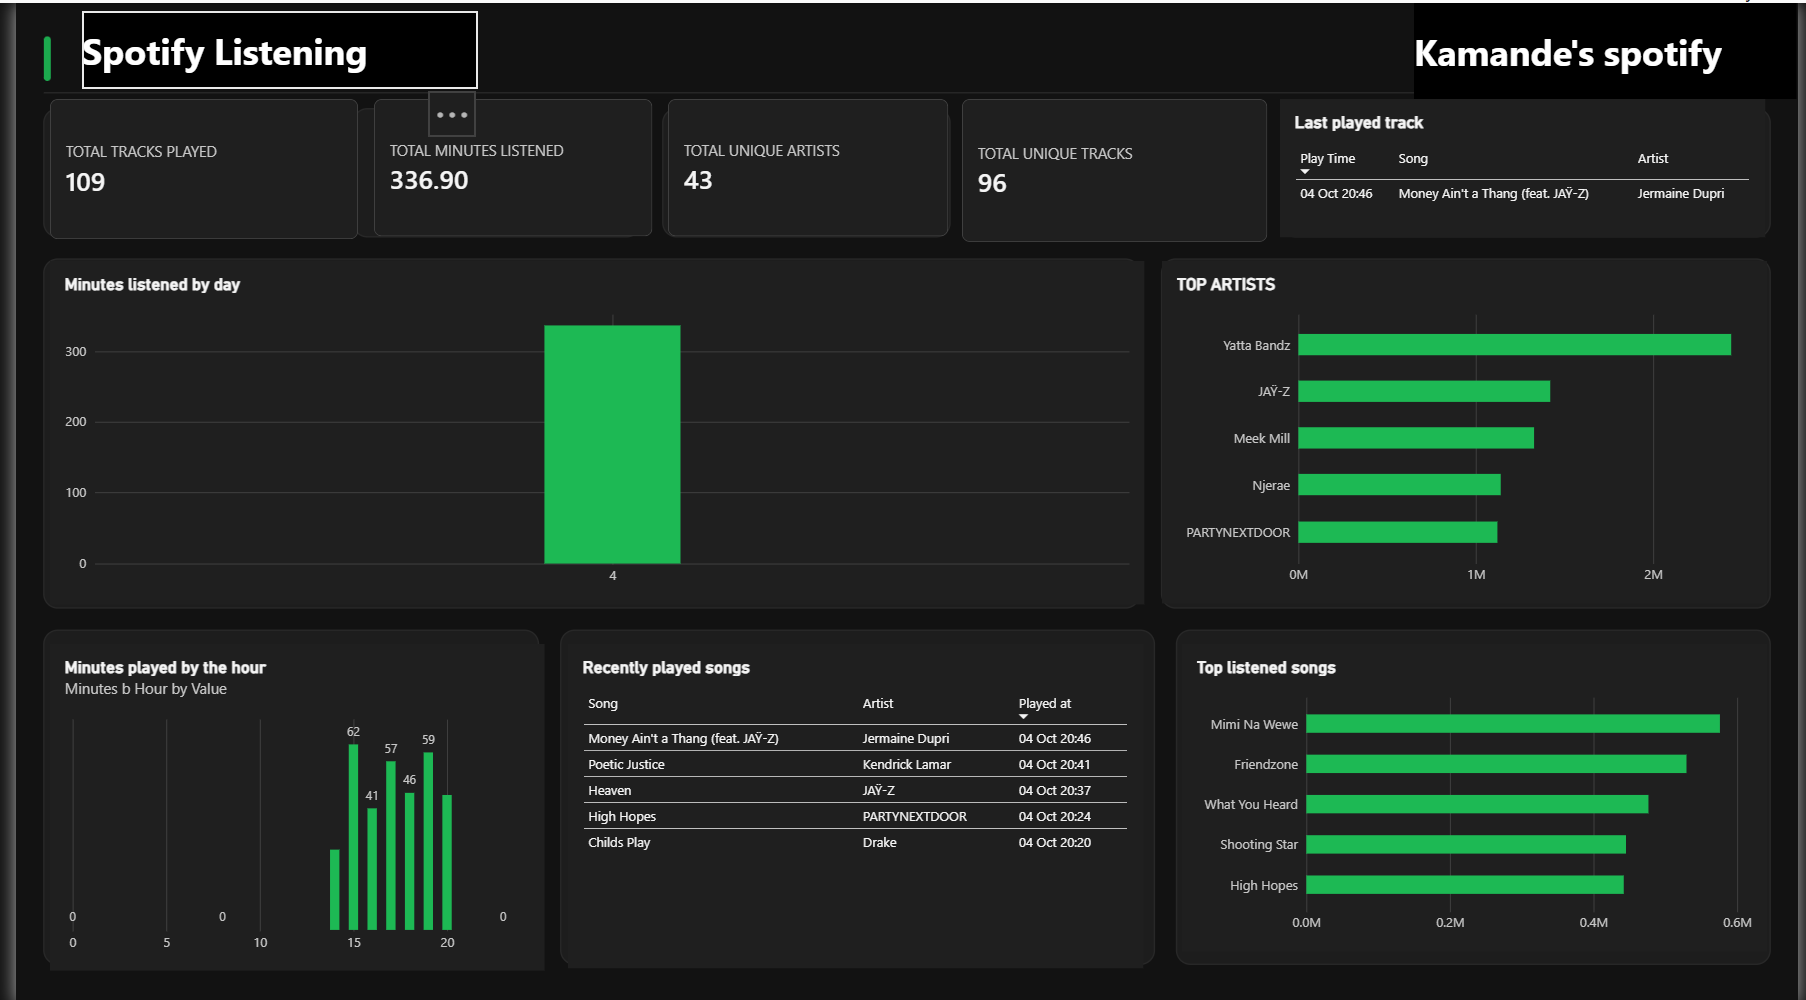

What the dashboard file says about the page in this screenshot:
{"tool":"powerbi","page":{"name":"Page 1","canvas":[1920,1080],"ordinal":0},"visuals":[{"type":"cardVisual","fields":{"Data":["Sum(analytics agg_daily_listening.minutes_listened)"]},"box":[385.5,104.1,300.7,148.4],"z":0},{"type":"cardVisual","fields":{"Data":["Sum(analytics agg_daily_listening.unique_artists)"]},"box":[701.7,104.1,302.7,148.4],"z":1000},{"type":"cardVisual","title":"TOTAL UNIQUE TRACKs","fields":{"Data":["Sum(analytics agg_daily_listening.unique_tracks)"]},"box":[1019.8,104.1,329.6,154.2],"z":2000},{"type":"cardVisual","fields":{"Data":["Sum(analytics agg_daily_listening.tracks_played)"]},"box":[36.2,103.7,332.9,152],"z":3000},{"type":"barChart","title":"TOP ARTISTS","fields":{"Category":["analytics fct_listening_events.primary_artist_name"],"Y":["Sum(analytics fct_listening_events.listened_ms)"]},"box":[1236,278,652,368],"z":4000},{"type":"clusteredBarChart","title":"Top listened songs","fields":{"Category":["analytics fct_listening_events.track_name"],"Y":["Sum(analytics fct_listening_events.listened_ms)"]},"box":[1256.9,690.1,630.4,331.6],"z":5000},{"type":"tableEx","title":"Recently played songs","fields":{"Values":["analytics fct_listening_events.track_name","analytics fct_listening_events.primary_artist_name","analytics fct_listening_events.Play Time"]},"box":[595.8,689.8,619.9,349.7],"z":6000},{"type":"tableEx","title":"Last played track","fields":{"Values":["analytics fct_listening_events.Play Time","analytics fct_listening_events.track_name","analytics fct_listening_events.primary_artist_name"]},"box":[1362.5,103.9,522.8,148.9],"z":7000},{"type":"shape","box":[71.1,8.6,426.7,83.7],"z":8000},{"type":"shape","box":[1507.3,0,412.7,103.7],"z":9000},{"type":"clusteredColumnChart","title":"Minutes listened by day","fields":{"Category":["analytics agg_daily_listening.play_date.Variation.Date Hierarchy.Day"],"Y":["Sum(analytics agg_daily_listening.minutes_listened)"]},"box":[36.2,277.4,1179.5,369],"z":10000},{"type":"clusteredColumnChart","title":"Minutes played by the hour","fields":{"Category":["Hours.Value"],"Y":["analytics fct_listening_events.Minutes b Hour"]},"box":[36.2,689.8,533.1,352.2],"z":11000}]}

Visuals, with their boxes in screenshot pixels (x1, y1, x2, y2), scaled from the page's 1920x1080 canvas onto the 1806x1000 screenshot:
cardVisual - Sum(analytics agg_daily_listening.minutes_listened): (363, 96, 645, 234)
cardVisual - Sum(analytics agg_daily_listening.unique_artists): (660, 96, 945, 234)
"TOTAL UNIQUE TRACKs" cardVisual: (959, 96, 1269, 239)
cardVisual - Sum(analytics agg_daily_listening.tracks_played): (34, 96, 347, 237)
"TOP ARTISTS" barChart: (1163, 257, 1776, 598)
"Top listened songs" clusteredBarChart: (1182, 639, 1775, 946)
"Recently played songs" tableEx: (560, 639, 1144, 962)
"Last played track" tableEx: (1282, 96, 1773, 234)
shape: (67, 8, 468, 85)
shape: (1418, 0, 1805, 96)
"Minutes listened by day" clusteredColumnChart: (34, 257, 1144, 599)
"Minutes played by the hour" clusteredColumnChart: (34, 639, 535, 965)
